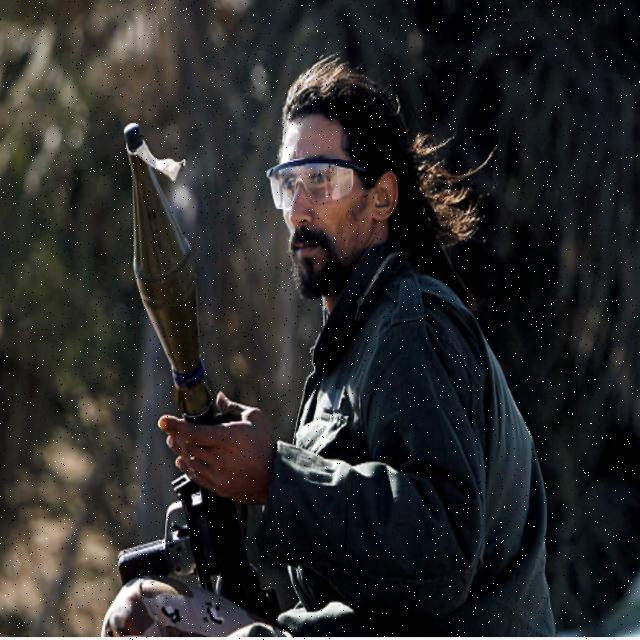bazooka: (119, 114, 230, 431)
